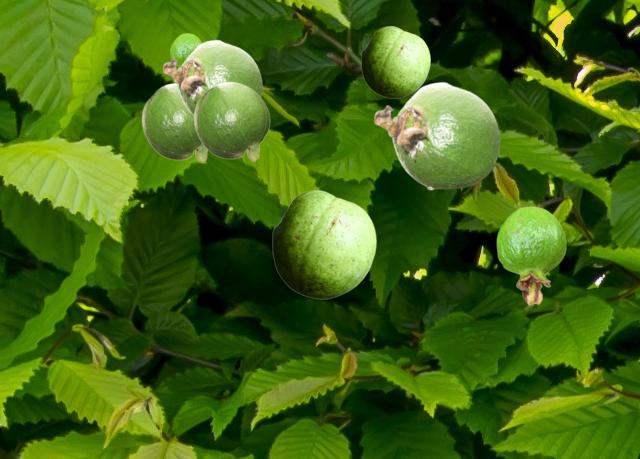guava: (373, 81, 500, 189), (272, 190, 375, 298), (162, 39, 262, 115), (496, 206, 565, 304), (193, 81, 269, 161), (141, 82, 208, 162), (361, 26, 429, 97), (170, 33, 201, 66)
